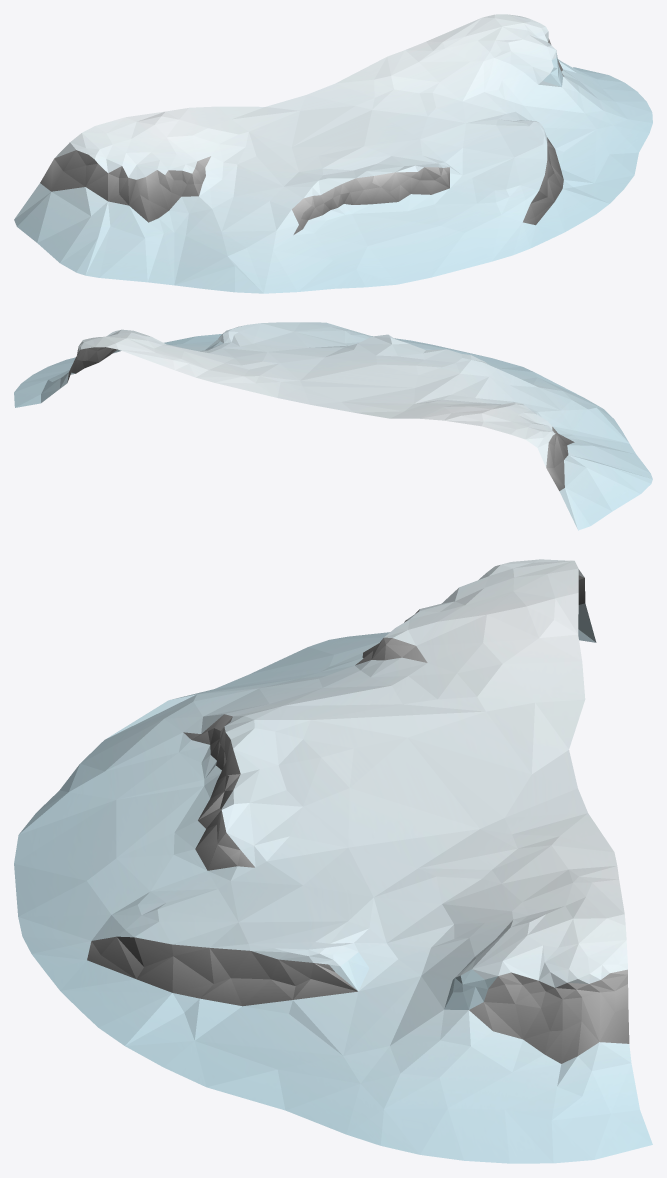
Rendered from Cliff_6.FBX.
The picture shows the model from 3 angles, top to bottom: view 1: azimuth 30°, elevation 25°; view 2: azimuth 150°, elevation 25°; view 3: azimuth 270°, elevation 25°; orthographic projection. The views are drawn at different scales.
Visible parts, largest first — view 1: Cliff_6; view 2: Cliff_6; view 3: Cliff_6.
Boxes of the visible parts, box(x1,y1,x2,y2) form: Cliff_6: box(14, 14, 652, 293); Cliff_6: box(14, 322, 652, 530); Cliff_6: box(14, 559, 652, 1163).
Size of the model in its own units: 206 by 26.4 by 105.
